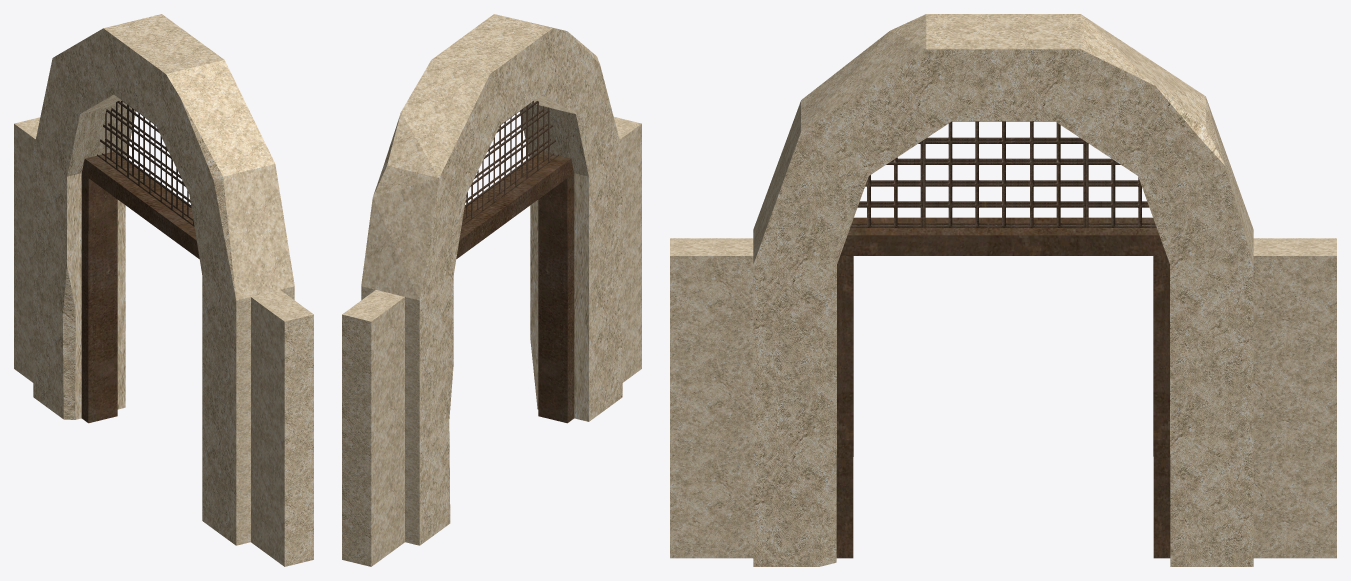
Rendered from thm_tato_imprv_wallgate_s01_l1.fbx.
3 views of the same model, side by side, from view 1: azimuth 30°, elevation 25°; view 2: azimuth 150°, elevation 25°; view 3: azimuth 270°, elevation 25° (orthographic). The views are drawn at different scales.
Parts seen in each view (by area): view 1: mesh_node; view 2: mesh_node; view 3: mesh_node.
Part boxes in pixels (x1,y1,x2,y2): mesh_node: (14,14,313,566); mesh_node: (342,14,641,566); mesh_node: (670,14,1336,566).
Bounding box in the file's own units: 1 × 6.85 × 8.
